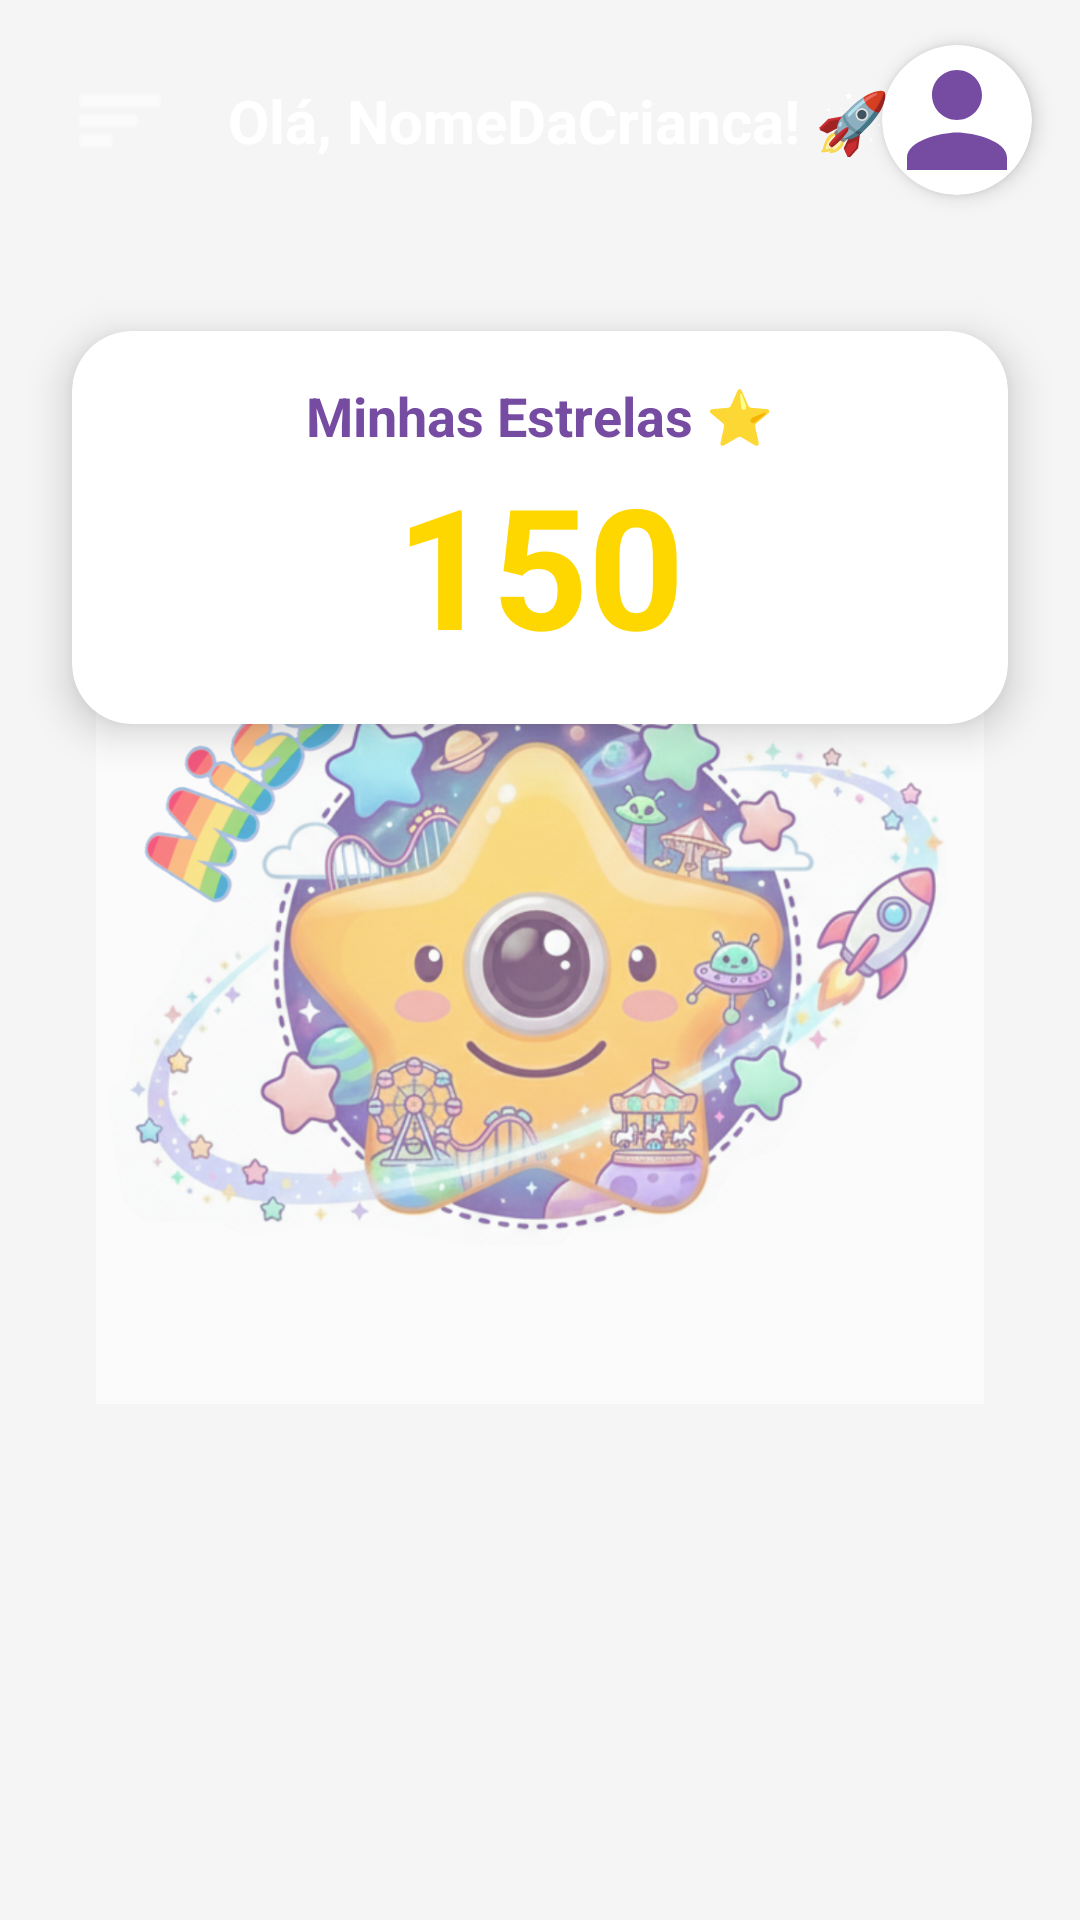

Screen size 1080x1920. Icon name, then its box in pixels as (x1, y1, x2, y2):
person: (882, 45, 1032, 195)
